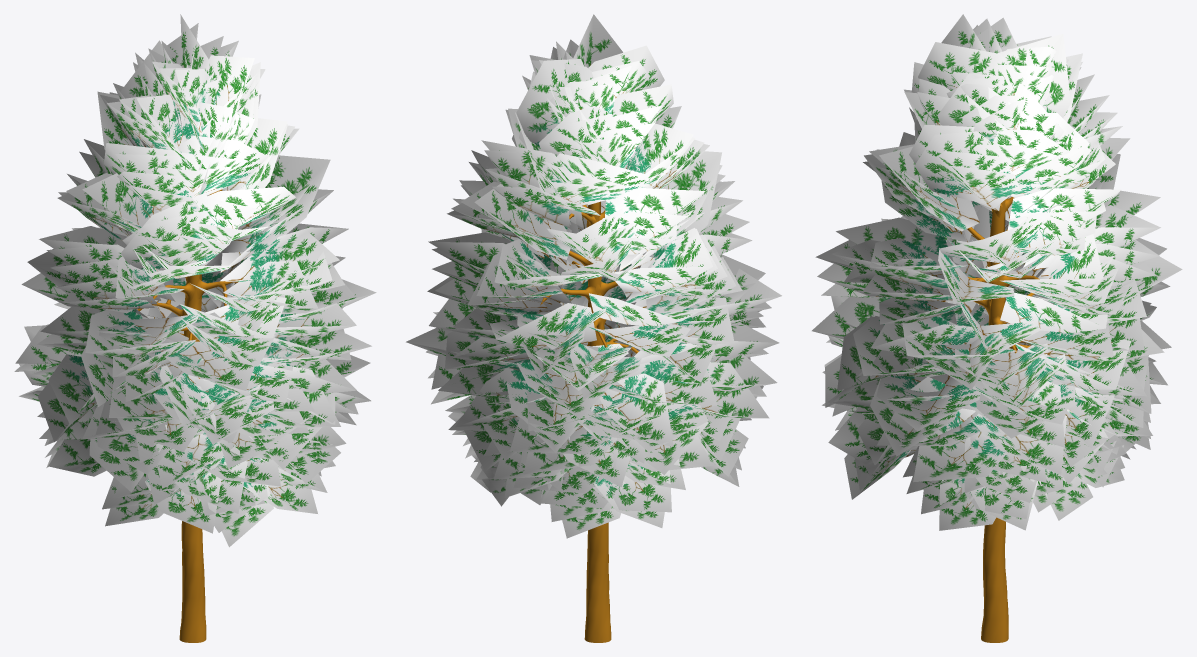
The model's file is Pine.fbx.
3 views of the same model, side by side, from view 1: azimuth 30°, elevation 25°; view 2: azimuth 150°, elevation 25°; view 3: azimuth 270°, elevation 25° (orthographic). The views are drawn at different scales.
Visible parts, largest first — view 1: pine branch_1, pine branch_trunk_0; view 2: pine branch_1, pine branch_trunk_0; view 3: pine branch_1, pine branch_trunk_0.
Boxes of the visible parts, x1,y1,x2,y2 form: pine branch_1: (14,14,376,547); pine branch_trunk_0: (137,189,238,642); pine branch_1: (406,14,781,538); pine branch_trunk_0: (537,201,638,642); pine branch_1: (812,14,1182,530); pine branch_trunk_0: (941,197,1039,642).
Bounding box in the file's own units: 404 × 741 × 406.
2 materials, 2 textured.
